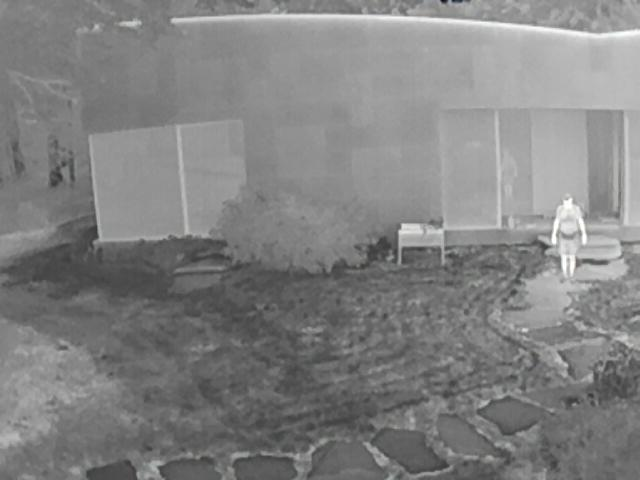person: (548, 194, 587, 282)
